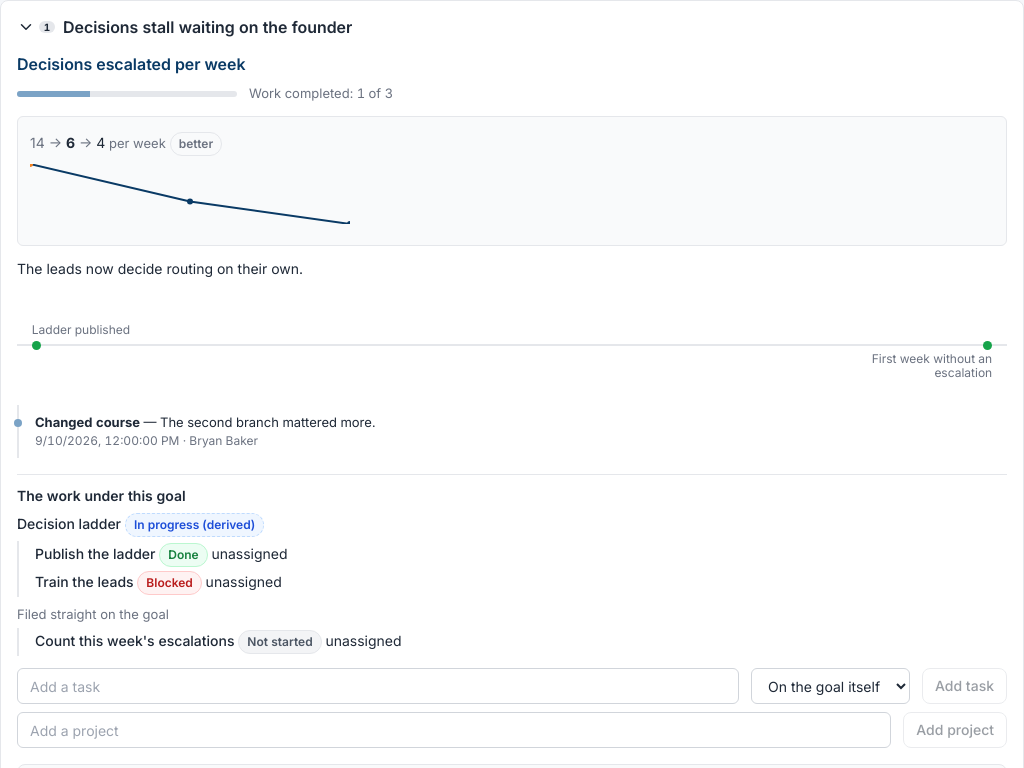
Test: a goal opens in place on the report (2026-10-07) › shows the server's refusal when an add is refused
This screenshot has width=1024, height=768.
(page scrolled)
Type "Nope" into the field with placeholder "Add a project" at (454, 730), box [17, 712, 891, 748]
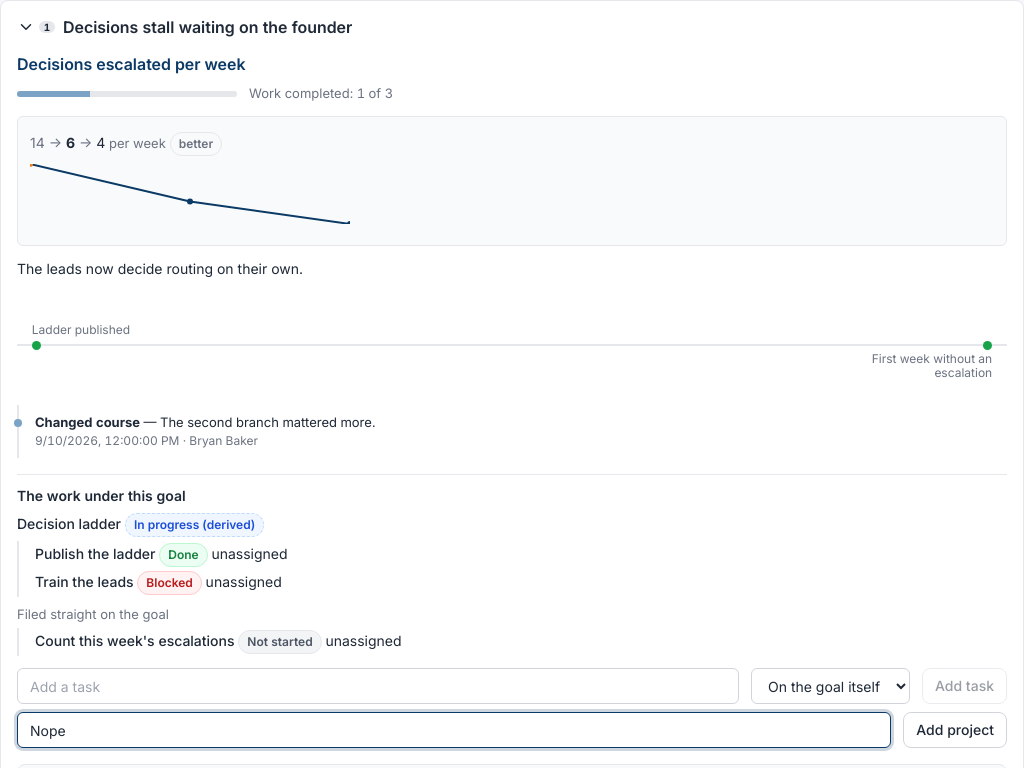
Click the button "Add project" at (955, 730), box [903, 712, 1007, 748]
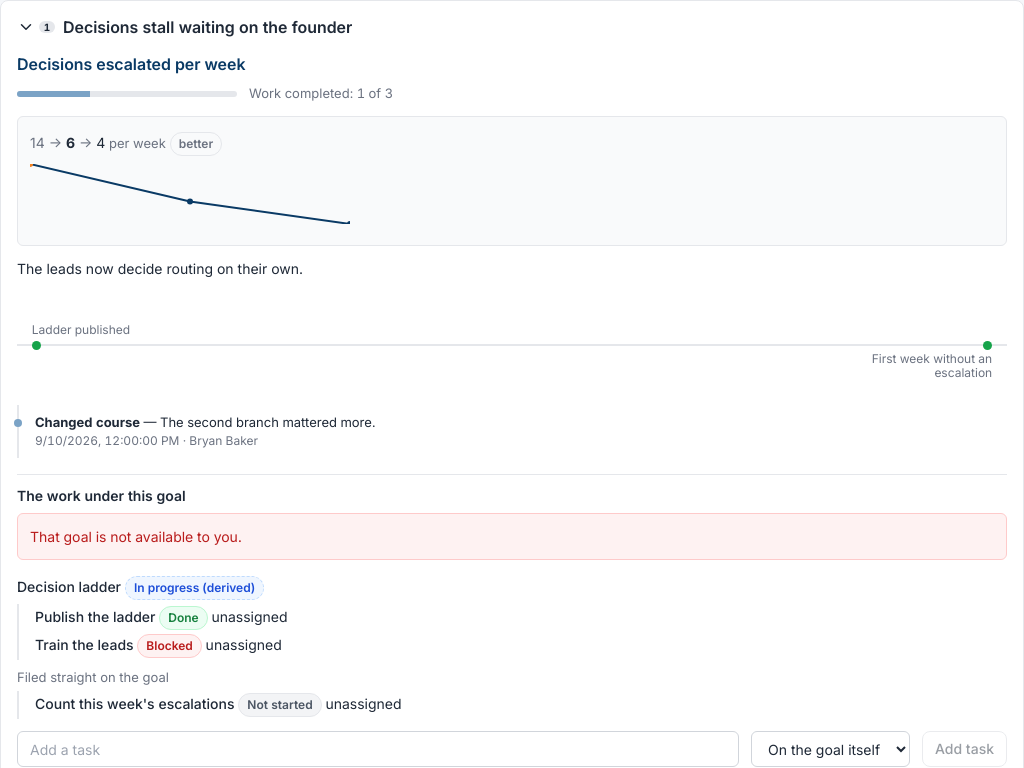
Now the text "That goal is not available to you." is shown, box [30, 528, 242, 545]
